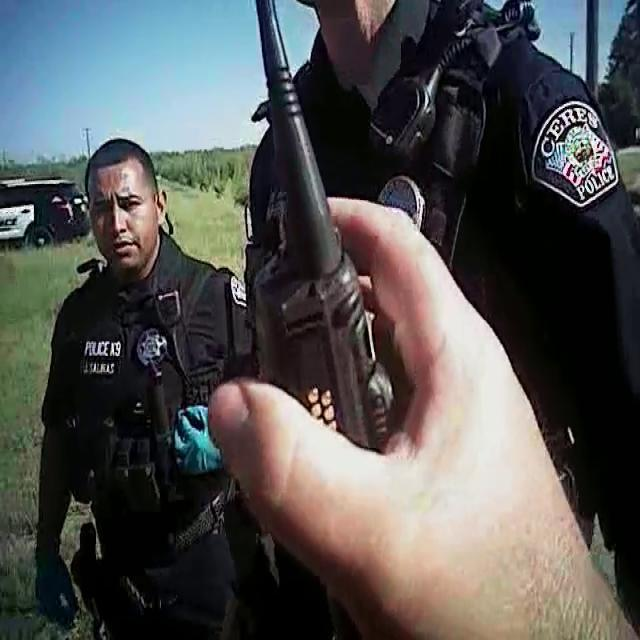gun: (63, 516, 115, 636)
